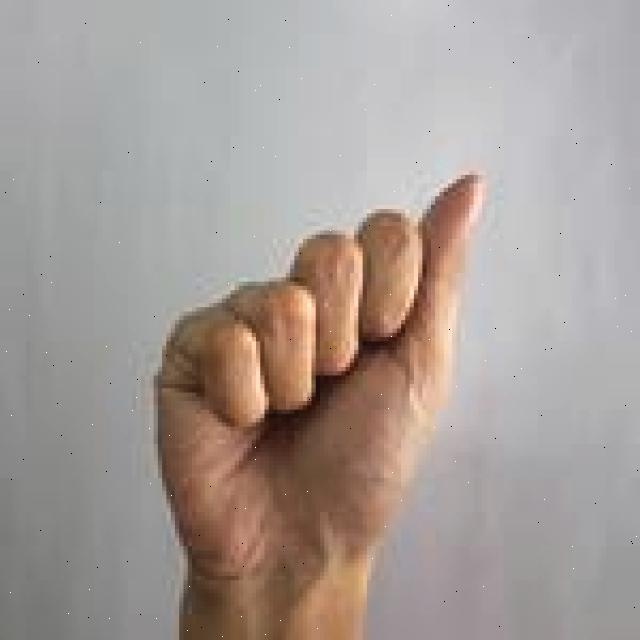A: (146, 161, 505, 640)
